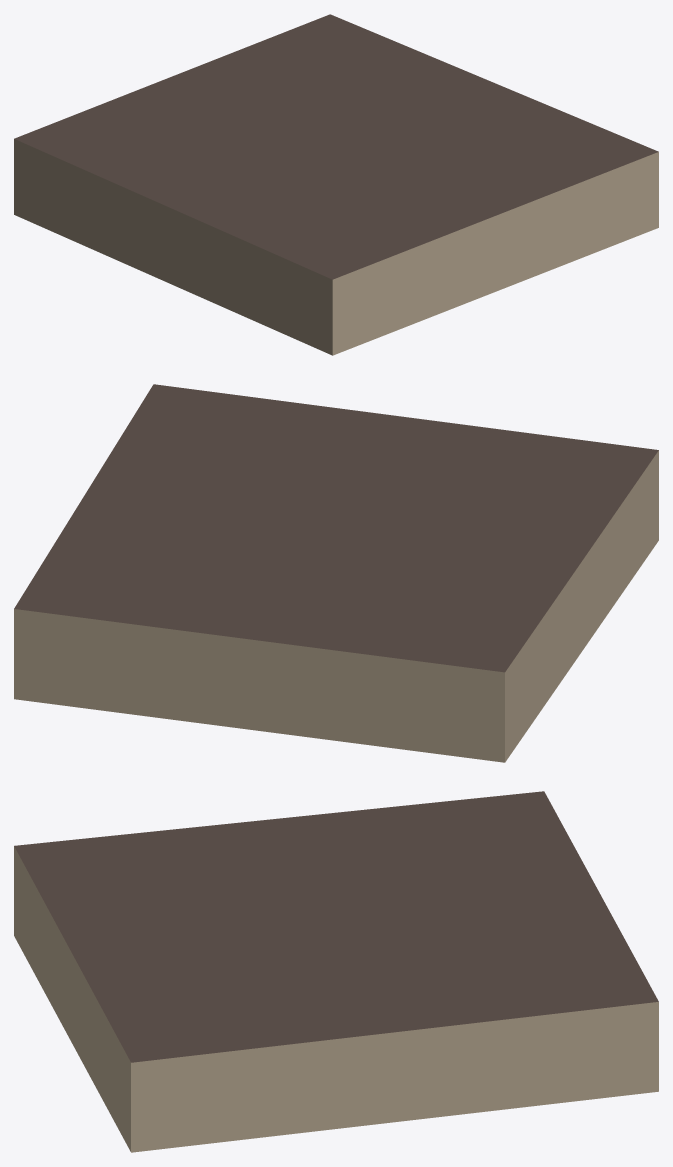
The picture shows the model from 3 angles, top to bottom: view 1: azimuth 30°, elevation 25°; view 2: azimuth 150°, elevation 25°; view 3: azimuth 270°, elevation 25°; orthographic projection. The views are drawn at different scales.
Parts seen in each view (by area): view 1: HP-w380339974; view 2: HP-w380339974; view 3: HP-w380339974.
Boxes of the visible parts, x1,y1,x2,y2 form: HP-w380339974: (14,14,658,355); HP-w380339974: (14,384,658,762); HP-w380339974: (14,791,658,1152).
Bounding box in the file's own units: 38.86 × 6 × 39.01.
